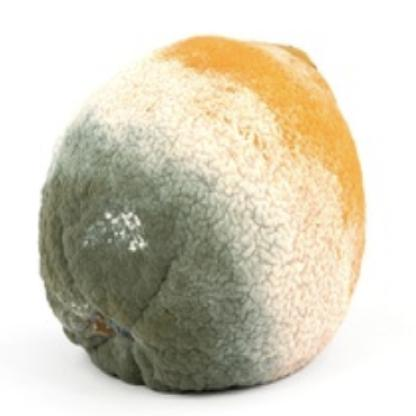rotten: (40, 34, 369, 396)
